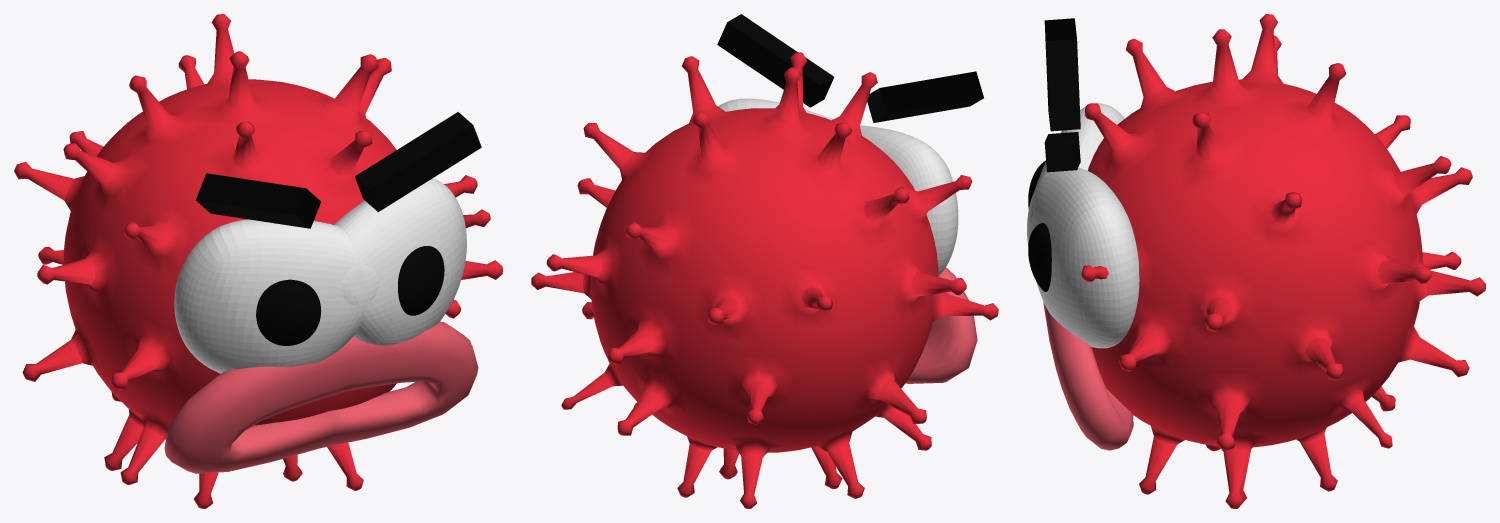
File: virus boss.fbx
3 renders of one model, left to right at view 1: azimuth 30°, elevation 25°; view 2: azimuth 150°, elevation 25°; view 3: azimuth 270°, elevation 25°, orthographic. The views are drawn at different scales.
Visible parts, largest first — view 1: Cube.005, Cube.001, Cube.006, Cube.007, Cube.009; view 2: Cube.005, Cube.001, Cube.007, Cube.009, Cube.006; view 3: Cube.005, Cube.001, Cube.006, Cube.009, Cube.007.
Boxes of the visible parts, <box> form: Cube.005: <box>14,14,502,508</box>; Cube.001: <box>174,178,466,373</box>; Cube.006: <box>164,321,478,473</box>; Cube.007: <box>355,112,481,212</box>; Cube.009: <box>195,173,320,228</box>; Cube.005: <box>531,52,998,508</box>; Cube.001: <box>718,98,958,276</box>; Cube.007: <box>717,14,834,107</box>; Cube.009: <box>867,71,983,122</box>; Cube.006: <box>905,267,977,383</box>; Cube.005: <box>1081,14,1485,508</box>; Cube.001: <box>1027,103,1139,348</box>; Cube.006: <box>1043,302,1133,450</box>; Cube.009: <box>1044,18,1080,131</box>; Cube.007: <box>1044,132,1080,172</box>.
Size of the model in its own units: 212 by 227 by 226.
